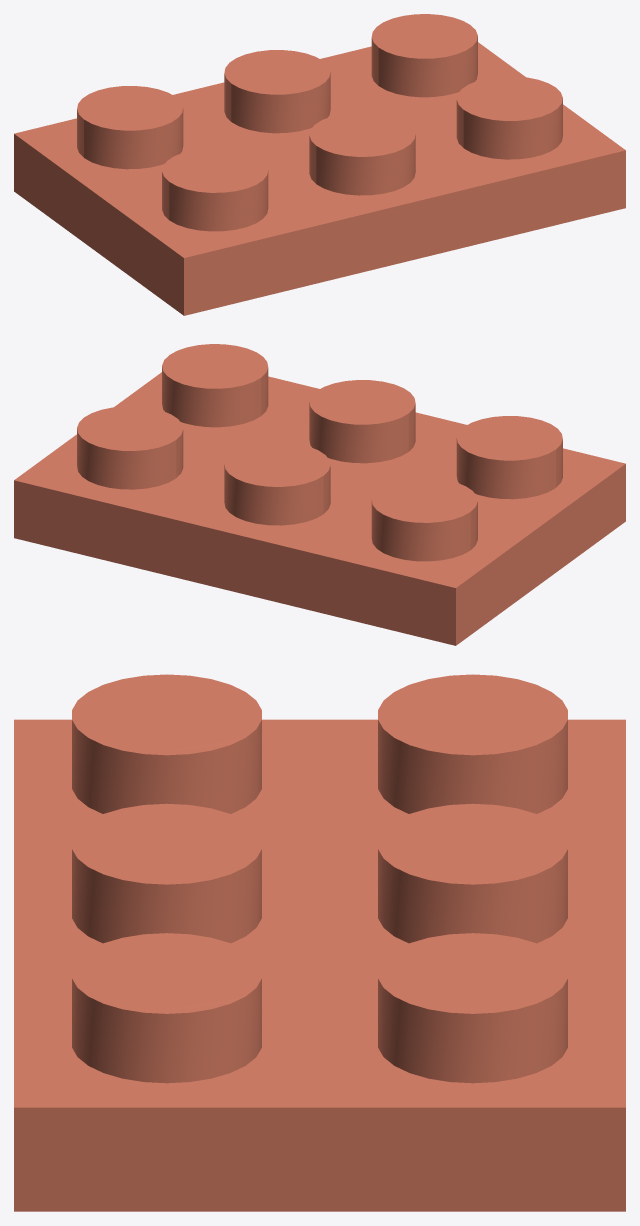
The picture shows the model from 3 angles, top to bottom: view 1: azimuth 30°, elevation 25°; view 2: azimuth 150°, elevation 25°; view 3: azimuth 270°, elevation 25°; orthographic projection. The views are drawn at different scales.
Visible parts, largest first — view 1: [pivoted]; view 2: [pivoted]; view 3: [pivoted].
Part boxes in pixels (x1,y1,x2,y2): [pivoted]: (14,14,625,315); [pivoted]: (14,344,625,645); [pivoted]: (14,674,625,1211).
Bounding box in the file's own units: 2.4 × 0.5 × 1.6.
